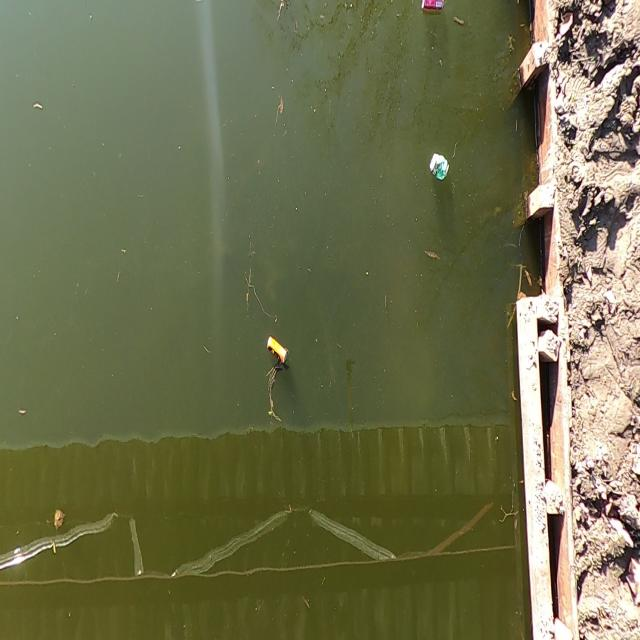Non plastique: (261, 332, 292, 371), (429, 149, 453, 187)
